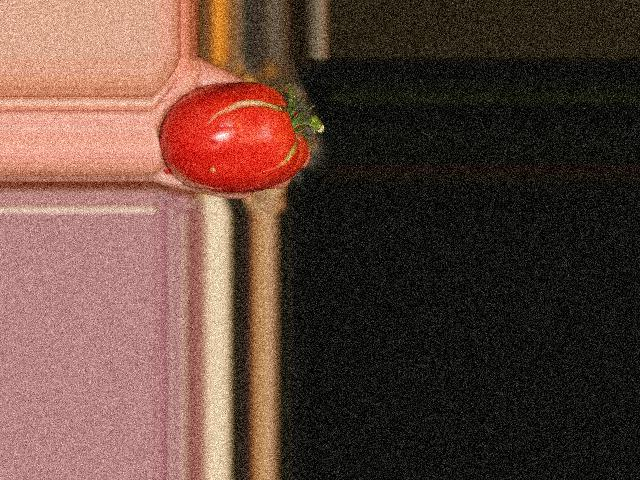tomato: (160, 84, 309, 194)
